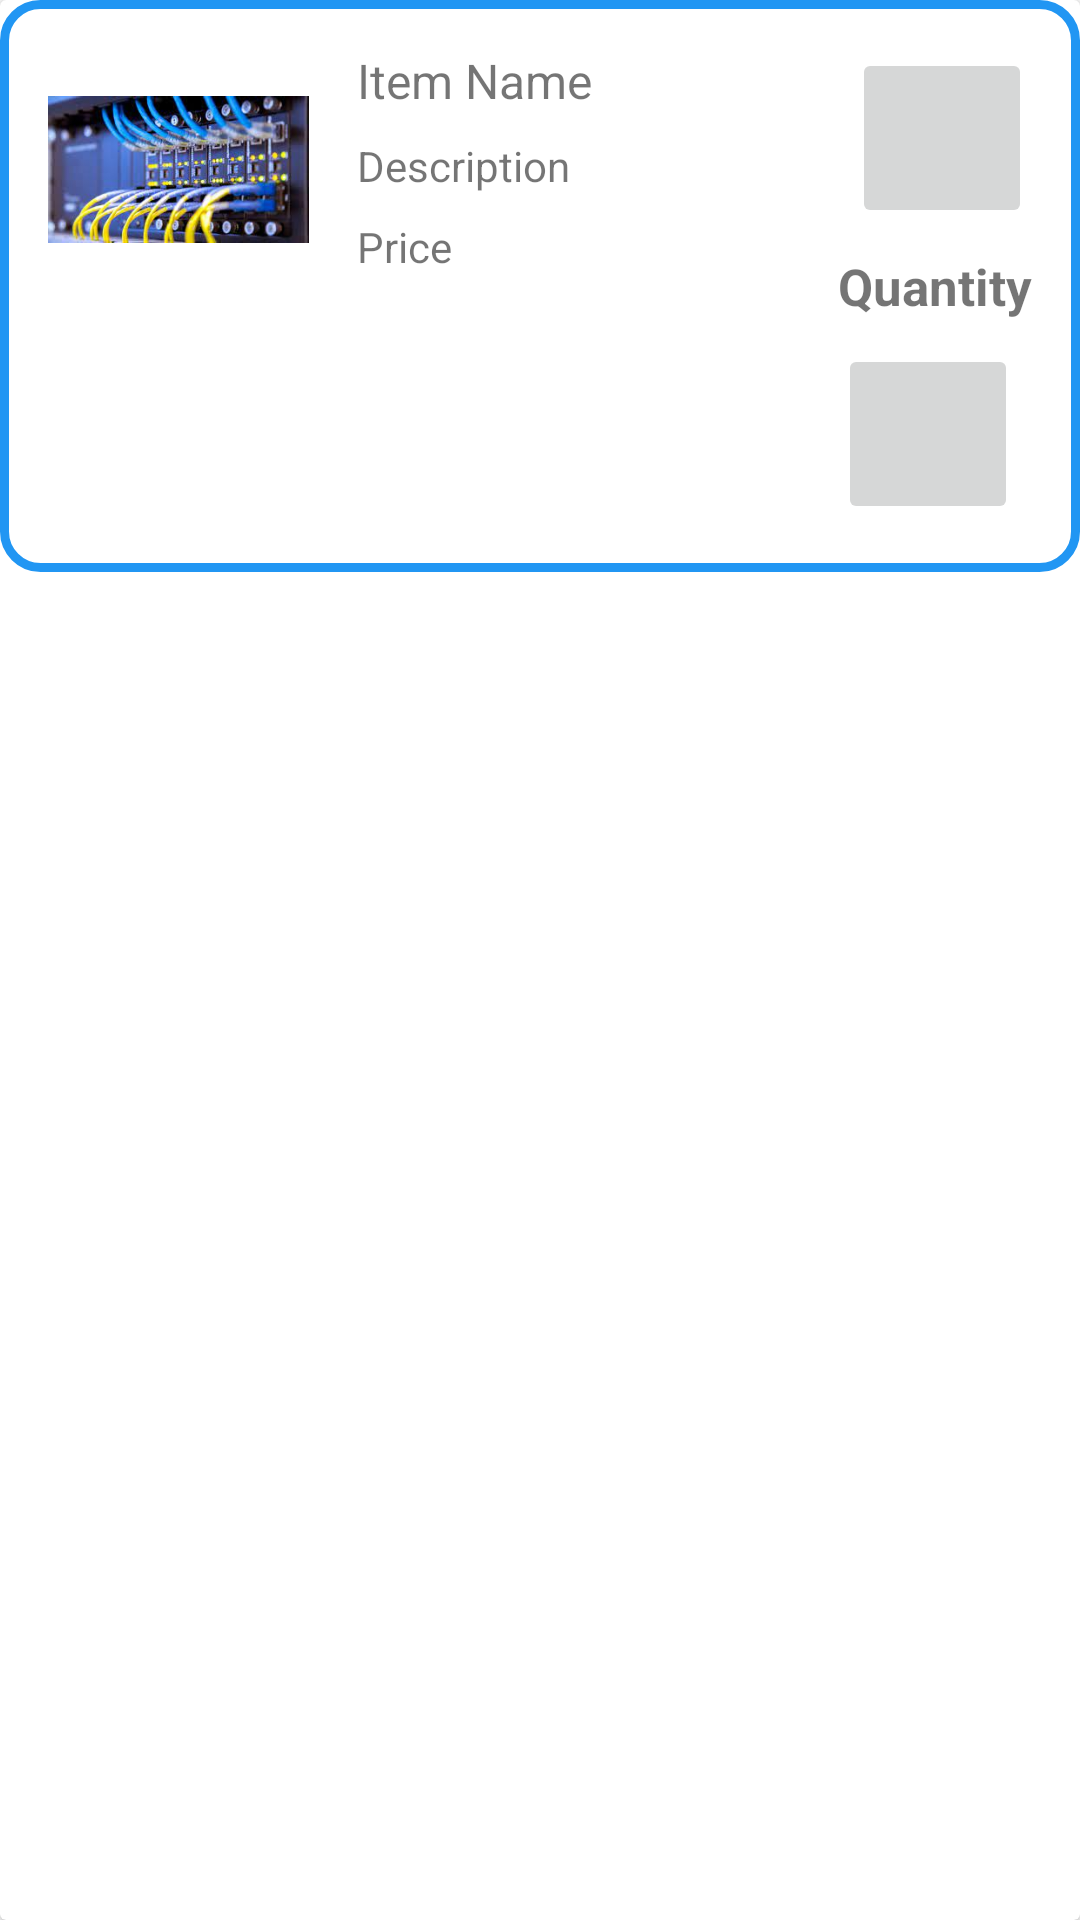

Where icons sit on this 1080px x 1920px app screen, as (x1, y1, x2, y2):
net: (48, 96, 309, 243)
